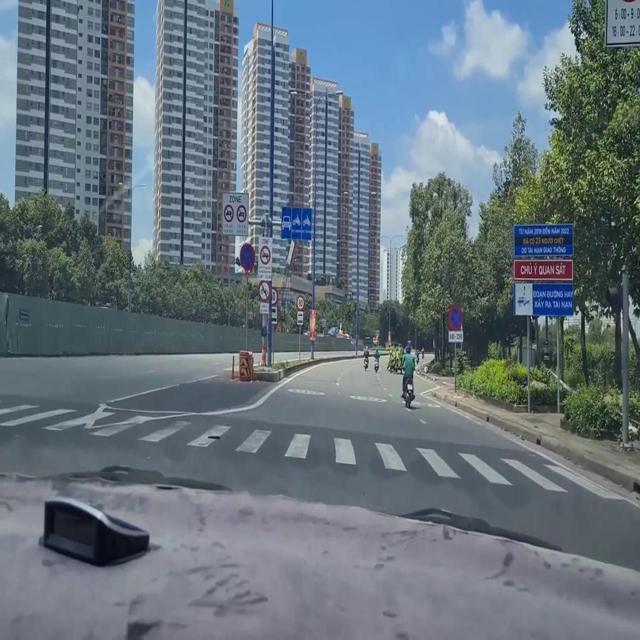Biển phụ: (446, 329, 466, 339), (258, 300, 270, 316), (271, 305, 280, 324), (296, 308, 304, 326)
Cấm các phương tiện hoạt động trong khung giờ cố định: (217, 190, 247, 237), (254, 233, 274, 279)
Cấm dừng - Cấm đỗ: (446, 300, 464, 333), (240, 240, 255, 274)
Cấm xe máy: (255, 276, 272, 301)
Giới hạn tốc độ: 80Km/h: (296, 293, 305, 307)
Khác: (511, 222, 575, 316)
Làn đường cho từng xe: (279, 202, 314, 243)
